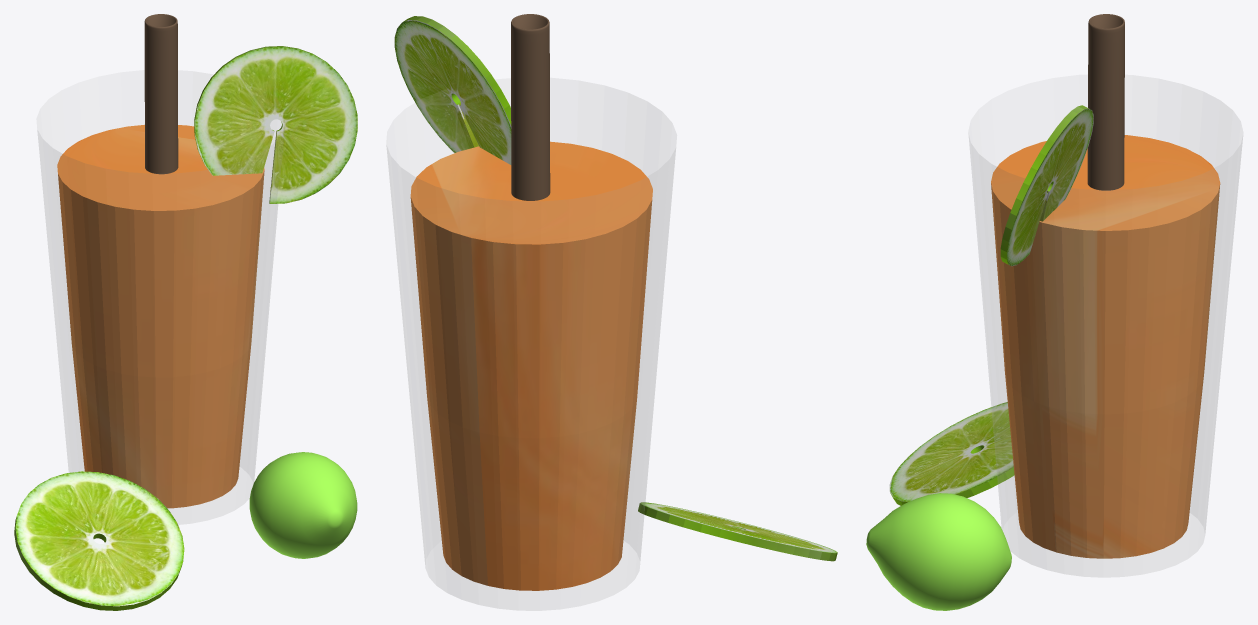
The model's file is limeTea.fbx.
3 views of the same model, side by side, from view 1: azimuth 30°, elevation 25°; view 2: azimuth 150°, elevation 25°; view 3: azimuth 270°, elevation 25° (orthographic). The views are drawn at different scales.
Visible parts, largest first — view 1: Sphere; view 2: Sphere; view 3: Sphere.
Boxes of the visible parts, x1=… form: Sphere: x1=14, y1=14, x2=357, y2=610; Sphere: x1=386, y1=14, x2=837, y2=610; Sphere: x1=866, y1=14, x2=1242, y2=610.
Size of the model in its own units: 148 by 201 by 125.
5 materials, 2 textured.
